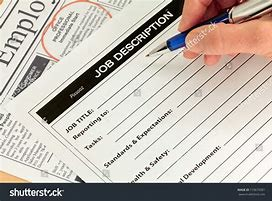pen: (148, 2, 272, 55)
